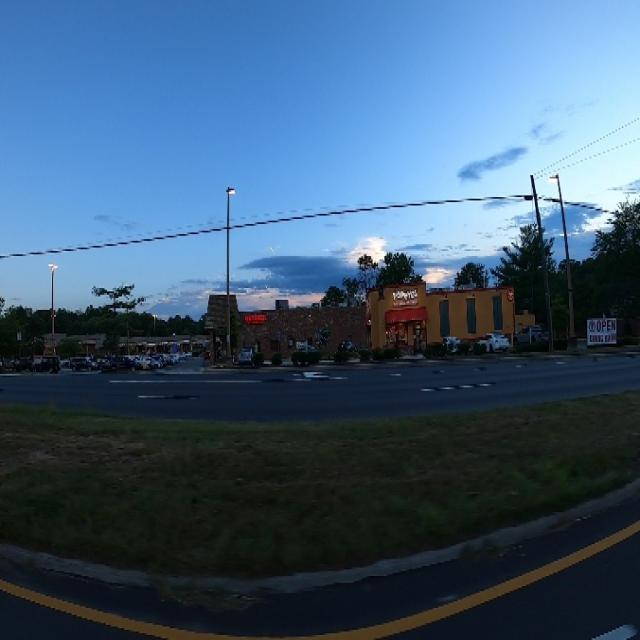cars: (511, 314, 550, 351), (478, 327, 512, 359), (30, 349, 61, 377), (232, 345, 262, 372), (66, 349, 96, 375), (438, 330, 463, 360), (200, 346, 214, 364)
